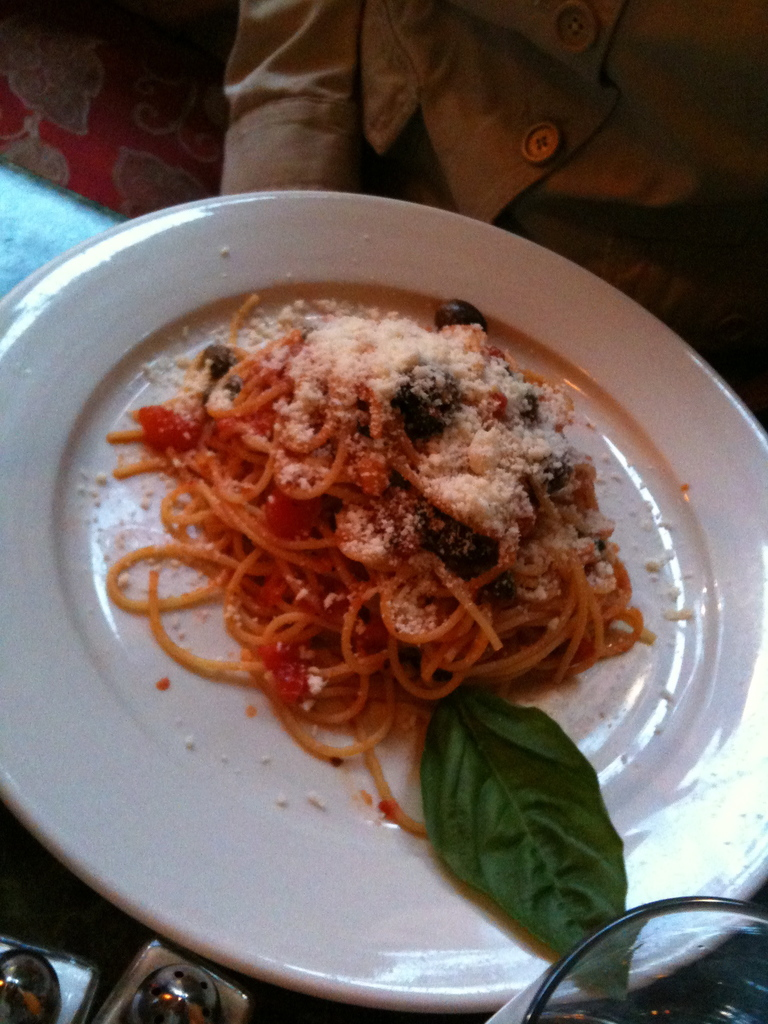pasta: (158, 329, 584, 821)
